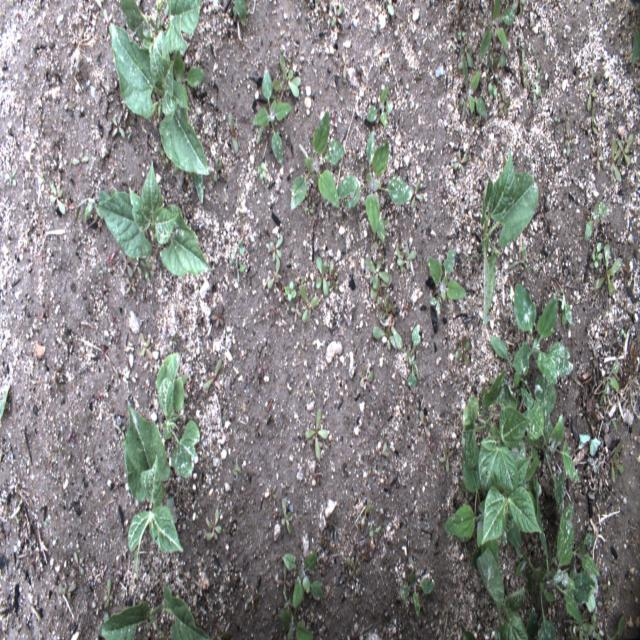crop: (505, 474, 601, 639), (108, 21, 209, 175), (463, 369, 542, 545), (98, 158, 213, 276), (465, 148, 539, 325), (125, 404, 183, 581), (102, 584, 212, 639), (155, 351, 200, 479), (476, 546, 529, 639), (120, 0, 200, 55), (234, 0, 248, 24), (462, 631, 477, 640)
weed: (444, 416, 507, 568), (334, 130, 412, 246), (522, 374, 580, 516), (512, 282, 574, 384), (290, 111, 346, 211), (253, 68, 292, 167), (365, 256, 403, 352), (488, 334, 532, 405), (426, 249, 466, 322), (477, 0, 515, 59), (283, 552, 323, 608), (398, 569, 435, 618), (461, 55, 487, 122), (593, 243, 623, 297), (273, 53, 301, 102), (173, 47, 205, 89), (581, 196, 611, 240), (304, 408, 328, 461), (366, 86, 394, 127), (279, 608, 314, 640), (599, 356, 620, 406), (406, 324, 421, 388), (315, 257, 339, 296), (569, 611, 601, 639), (603, 137, 621, 183), (228, 238, 246, 282), (299, 284, 319, 323), (508, 242, 530, 274), (202, 358, 222, 391), (49, 178, 66, 215), (610, 441, 624, 483), (555, 293, 572, 327), (487, 52, 506, 82), (396, 245, 416, 273), (275, 565, 291, 598), (205, 510, 222, 541), (227, 111, 239, 153), (617, 134, 633, 165), (455, 335, 471, 365), (604, 614, 624, 638), (584, 72, 596, 111), (280, 498, 292, 536), (531, 68, 543, 106), (269, 234, 283, 266), (457, 43, 473, 71), (0, 381, 11, 420), (439, 444, 453, 474), (58, 582, 77, 604), (193, 169, 204, 207), (120, 248, 134, 277), (139, 332, 153, 360), (454, 147, 468, 175), (267, 259, 280, 289), (590, 144, 604, 171), (209, 157, 224, 182), (345, 555, 360, 580), (103, 577, 114, 610), (631, 29, 640, 68), (419, 410, 432, 437), (565, 121, 575, 156), (111, 115, 126, 138), (140, 256, 155, 279), (73, 550, 85, 578), (360, 368, 374, 392), (499, 88, 510, 118), (97, 611, 109, 638), (232, 453, 242, 484), (520, 48, 528, 86), (340, 49, 350, 79), (591, 243, 603, 268), (102, 9, 113, 35), (331, 4, 344, 26), (290, 301, 302, 324), (510, 0, 525, 18), (284, 280, 296, 302), (361, 504, 373, 526), (159, 4, 169, 29), (129, 257, 142, 276), (411, 181, 419, 211), (125, 276, 136, 295), (591, 109, 599, 135), (71, 154, 89, 165), (4, 169, 16, 185), (257, 162, 266, 182), (532, 48, 540, 70), (488, 82, 497, 101), (369, 523, 381, 537), (115, 425, 125, 441), (379, 441, 389, 457), (608, 105, 616, 125), (606, 418, 617, 432), (284, 594, 292, 613), (296, 276, 306, 288), (596, 598, 608, 606), (620, 327, 627, 340), (457, 31, 467, 37), (554, 117, 561, 122)
